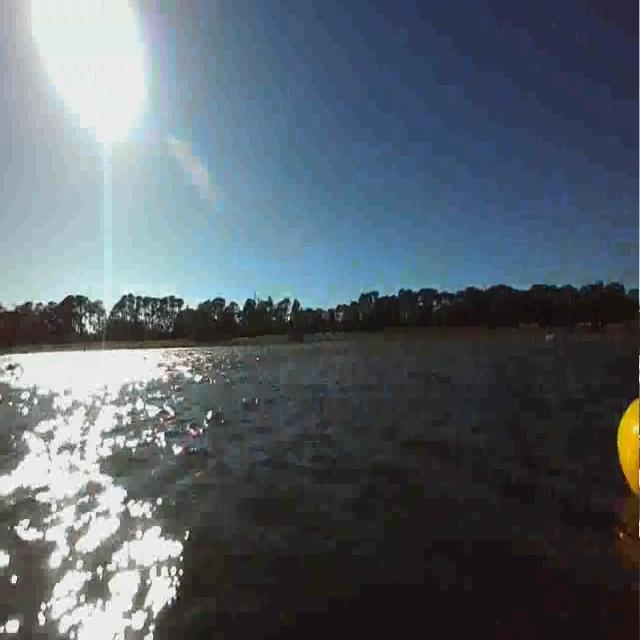yellow-buoy: (615, 384, 640, 513)
